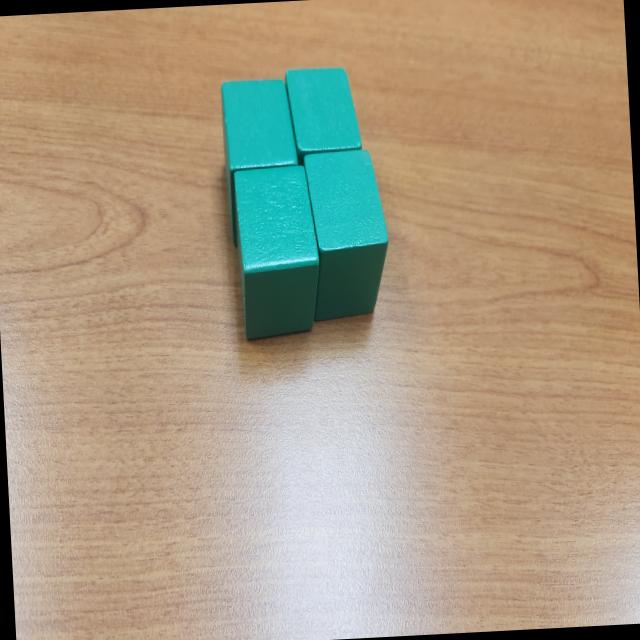green: (229, 164, 324, 340), (303, 149, 393, 323), (220, 76, 305, 248), (286, 66, 364, 166)
